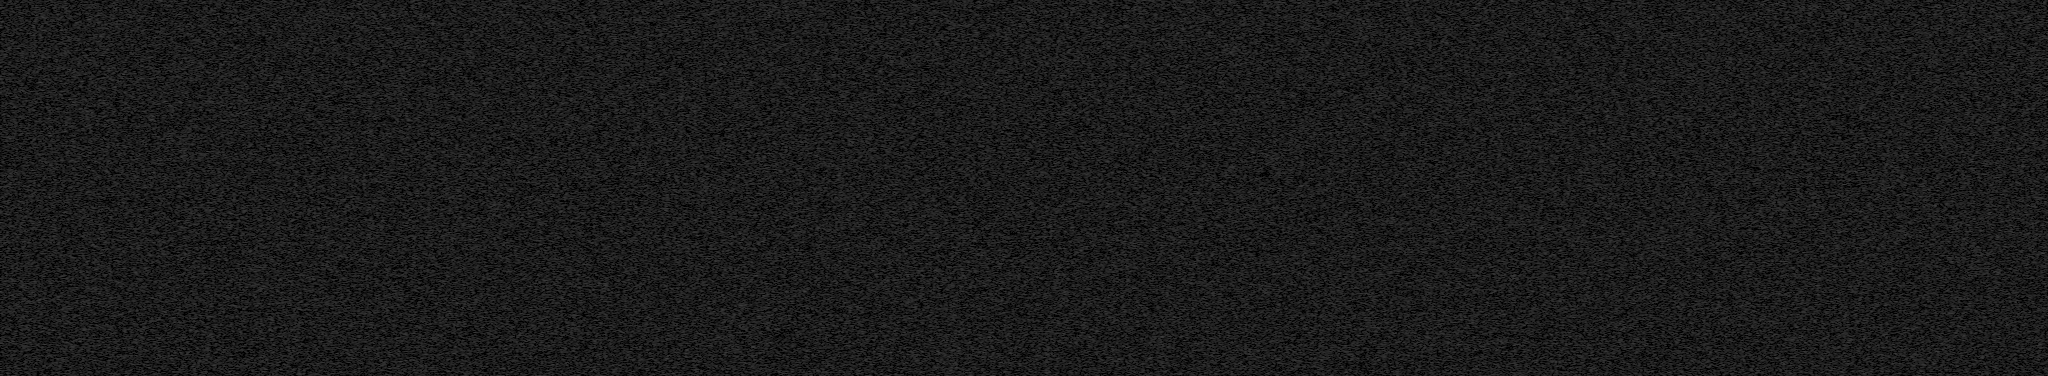wv_cw: (1923, 0, 1928, 376)
wv_lsb: (1930, 4, 1934, 356), (666, 110, 671, 195), (1929, 305, 1934, 376), (1928, 94, 1934, 145), (666, 54, 671, 108), (1929, 25, 1934, 77), (1929, 148, 1934, 191), (666, 200, 671, 243), (666, 315, 671, 355), (1929, 191, 1934, 228), (666, 244, 671, 275), (666, 286, 671, 315), (666, 29, 671, 52), (1929, 1, 1934, 23), (666, 3, 671, 25), (1929, 289, 1934, 304), (1930, 356, 1934, 376), (1929, 230, 1933, 249), (1929, 78, 1934, 93), (1929, 261, 1934, 274), (666, 359, 671, 367), (666, 369, 671, 376), (666, 278, 671, 285), (666, 195, 671, 198), (1929, 255, 1933, 258), (1930, 282, 1933, 287), (1930, 275, 1933, 281)
wv_usb: (1027, 196, 1031, 214), (1027, 37, 1031, 47), (1027, 215, 1031, 226), (1027, 124, 1031, 134), (1027, 136, 1031, 145), (1027, 115, 1031, 123), (1027, 27, 1031, 35), (1027, 282, 1031, 289), (1027, 48, 1031, 54), (1027, 371, 1031, 376), (1027, 367, 1031, 369)
